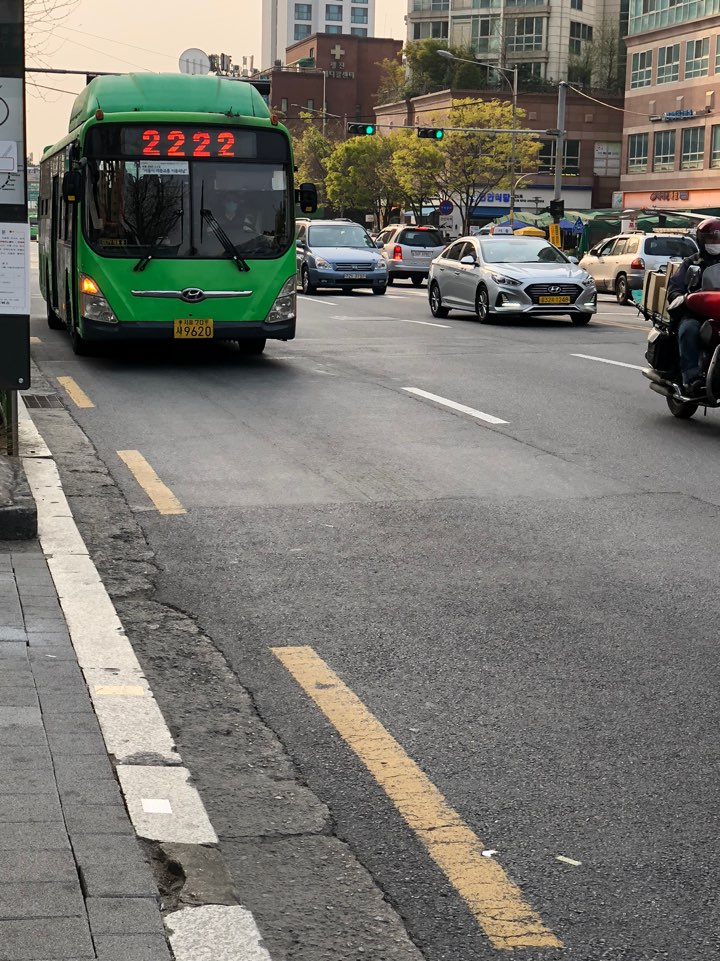bnum: (135, 124, 240, 158)
